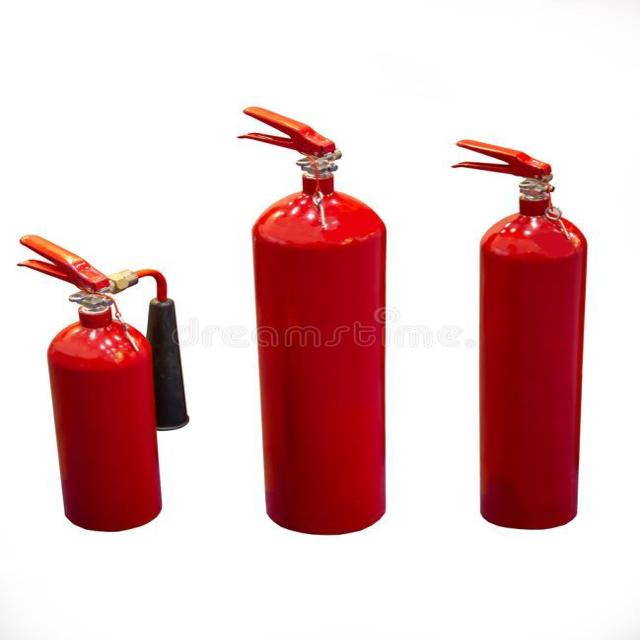fire_extinguisher: (232, 102, 393, 539), (448, 136, 596, 535), (8, 231, 195, 534)
